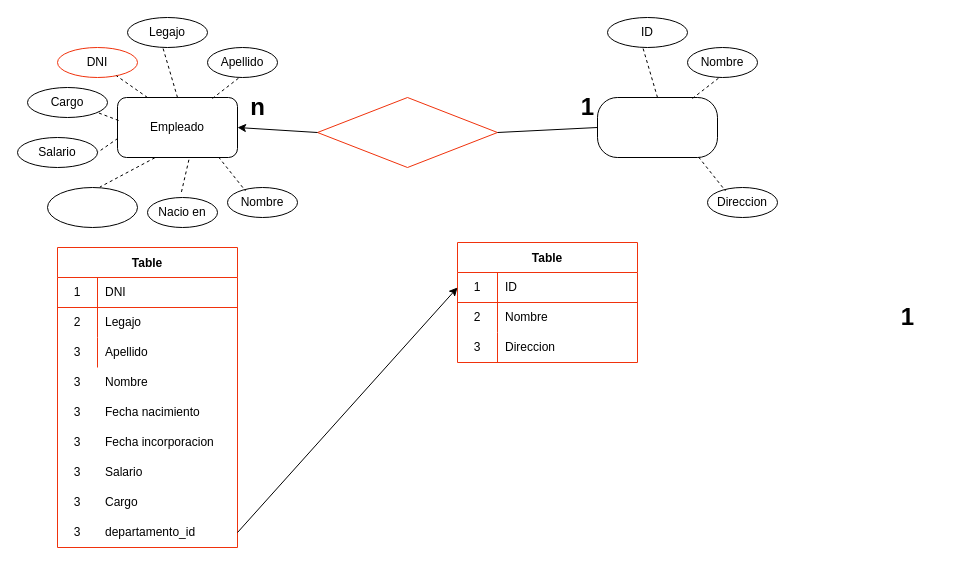
This 975x565 diagram has some shape labels left out. The shapes that lost their labels are listed below. From the top down, each one's centre as x and y in pixels, then its label:
At pixel 407 132: "<- Tiene Pertenecen ->".
At pixel 657 127: "Departamento".
At pixel 92 207: "Incorporacion en".
